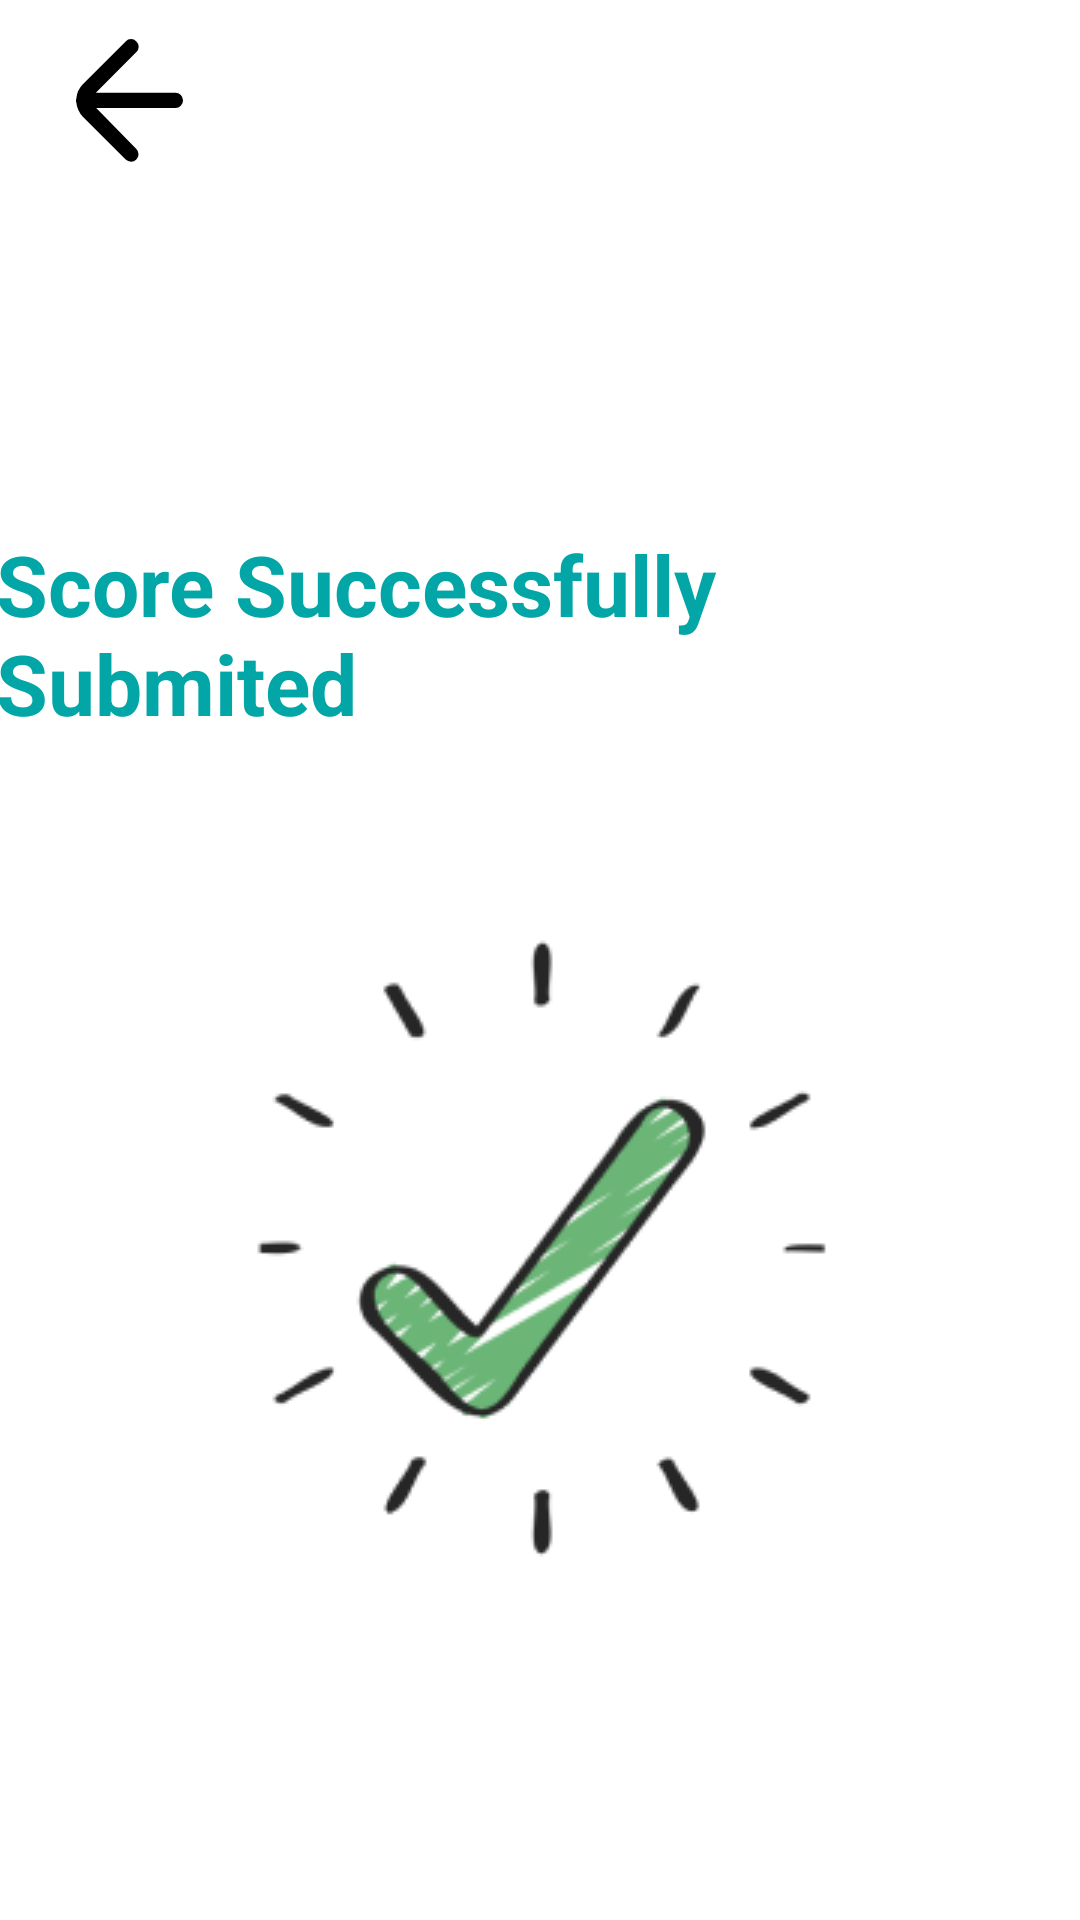

Screen size 1080×1920. Icon name, then its center in pixels as (x=x, y=y):
back arrow: (x=129, y=100)
